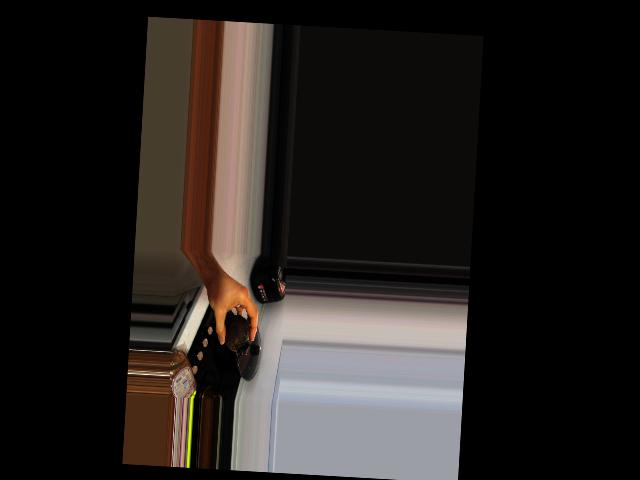beet: (223, 312, 251, 356)
